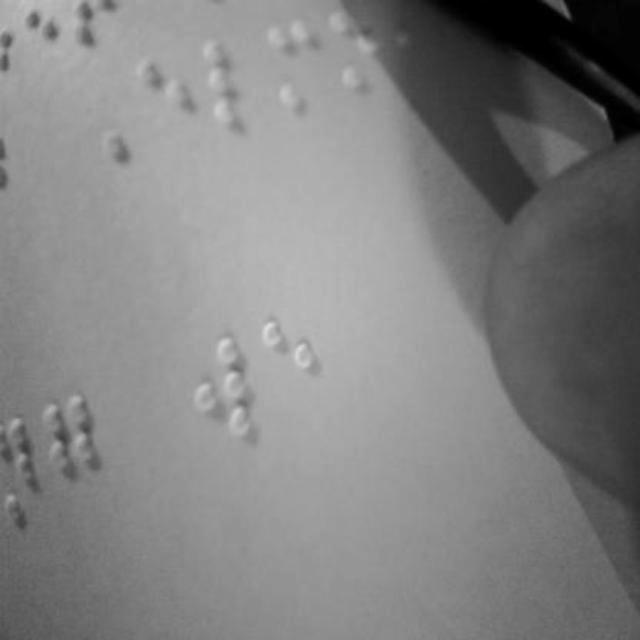braiile: (202, 18, 272, 142), (192, 331, 262, 454), (262, 304, 328, 431), (42, 392, 108, 518), (138, 49, 205, 161), (270, 10, 330, 126), (1, 394, 48, 534)
